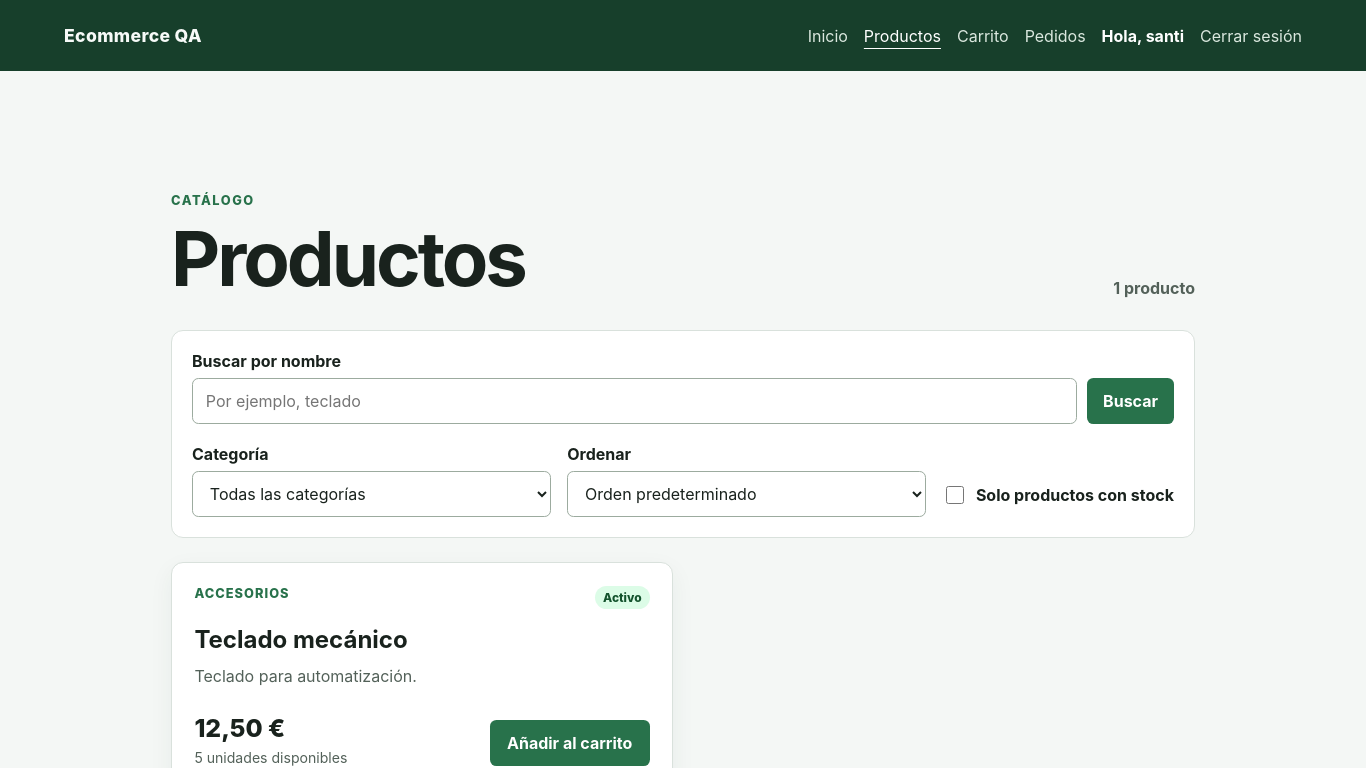
Test: carrito › añade un producto desde el catálogo
Click the button "Añadir al carrito". click: (570,743)
box: [490,720,650,766]
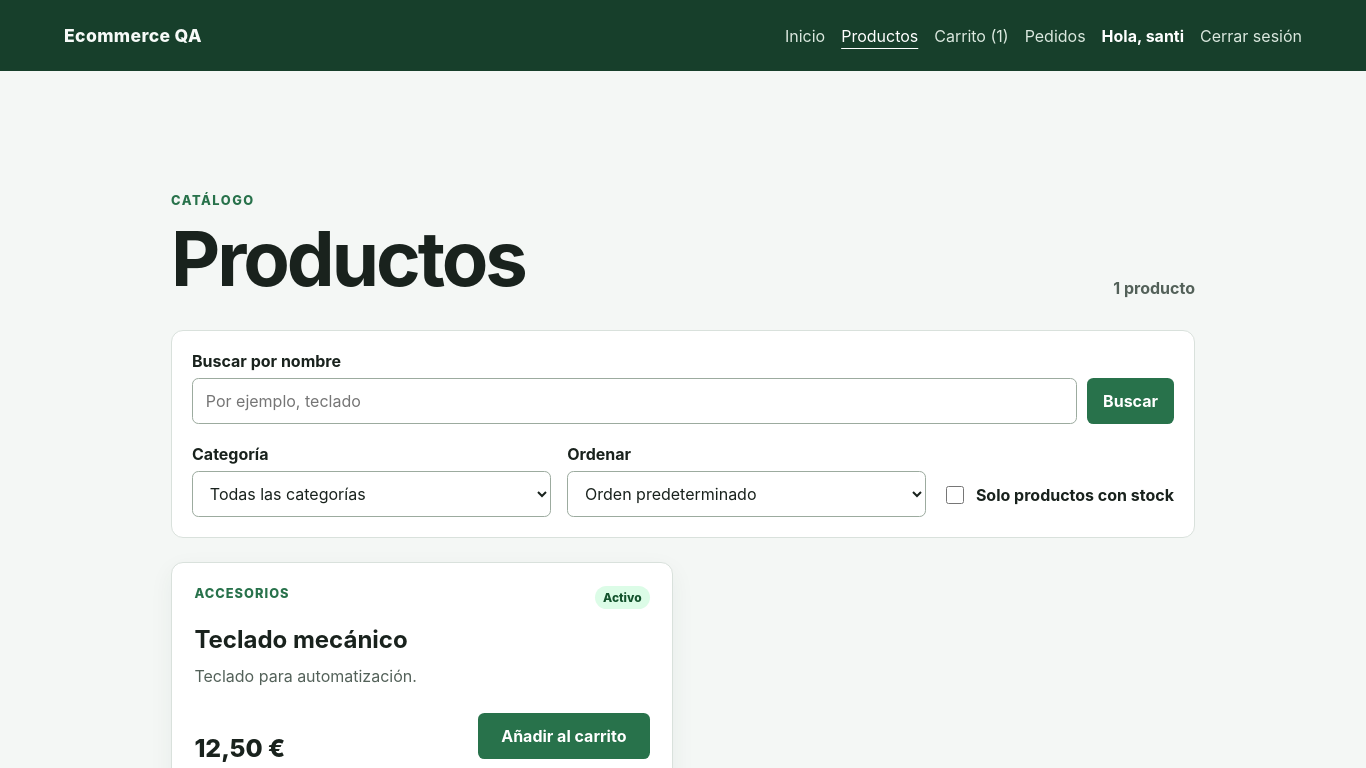
Now the link "Carrito (1)" is shown, box [934,20,1009,51]
